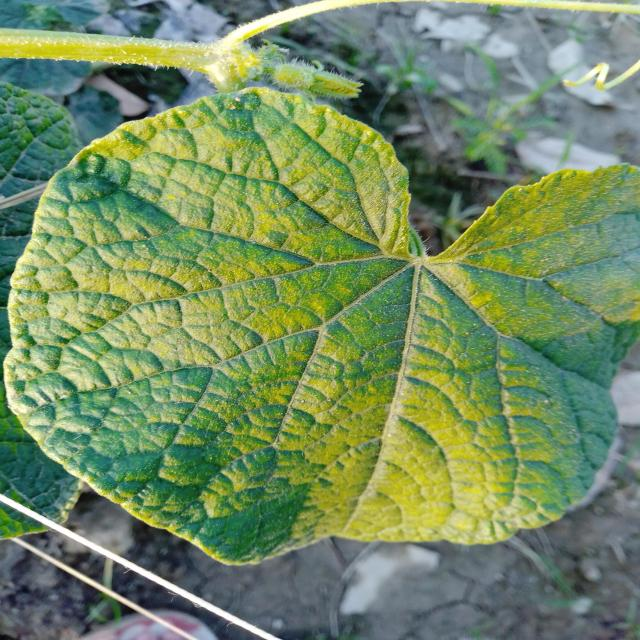cucumber_healthy: (4, 79, 640, 572)
